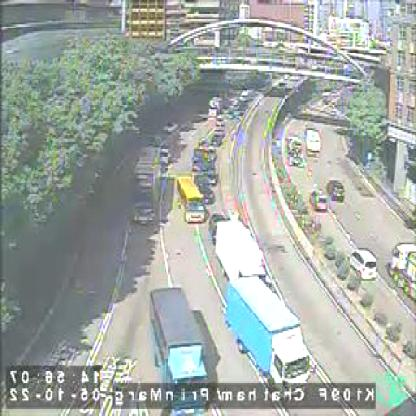Bus: (134, 148, 160, 226), (178, 173, 206, 222)
Car: (350, 248, 378, 279), (310, 187, 328, 212), (308, 127, 322, 154), (329, 178, 344, 203), (197, 182, 214, 203), (205, 166, 217, 184), (212, 134, 224, 148), (207, 144, 217, 159)
Truck: (229, 276, 311, 390), (151, 288, 208, 411), (220, 220, 268, 283), (288, 136, 306, 166)
